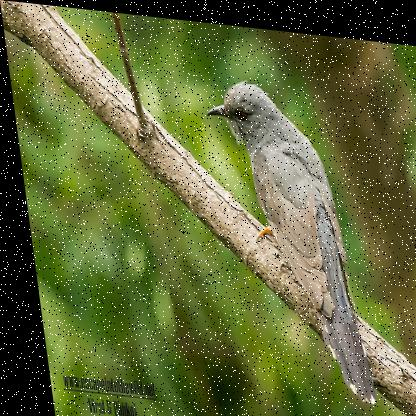Burung: (198, 69, 366, 398)
